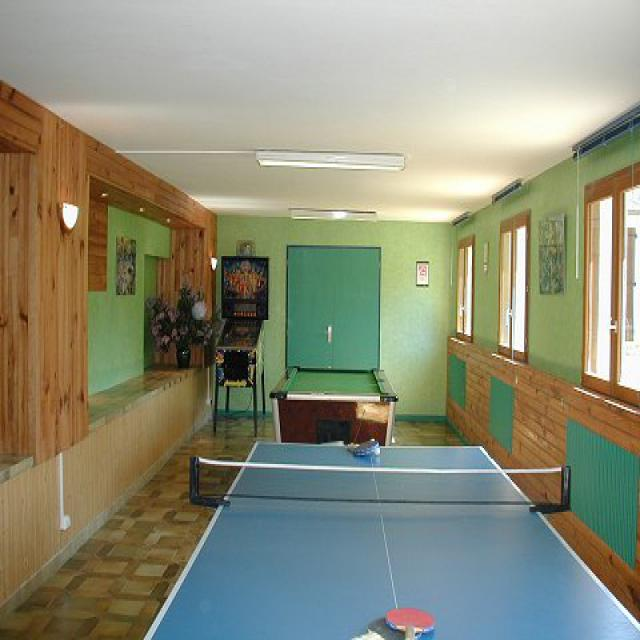2001: (580, 162, 637, 405), (496, 208, 527, 361), (455, 233, 473, 341)
billard table: (268, 363, 396, 444)
floor -X: (1, 414, 637, 638)
flowers in pot: (147, 286, 209, 350)
lamp crop: (255, 148, 404, 171), (291, 206, 375, 217), (57, 201, 80, 233)
paddle: (384, 606, 432, 636), (345, 439, 375, 455)
picture crop: (537, 213, 564, 292), (113, 233, 136, 293)
slot machines crop: (213, 254, 268, 434)
table top kitchen: (143, 437, 639, 638)
vase -X: (176, 340, 188, 366)
wall clock: (0, 77, 216, 620), (443, 112, 637, 620), (213, 213, 452, 420)
